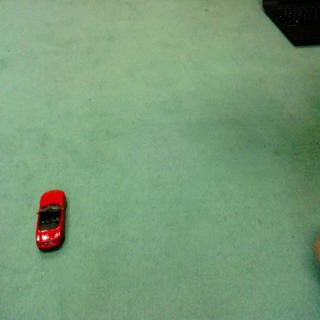car: (34, 187, 70, 258)
